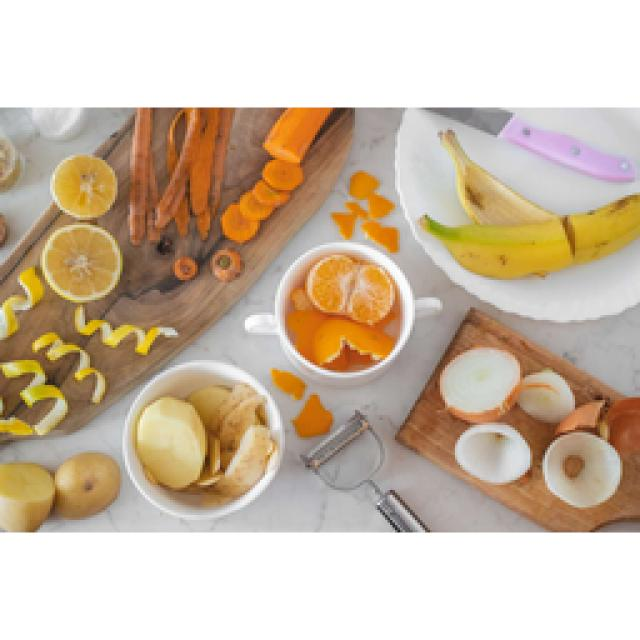food_waste: (420, 130, 638, 272), (440, 348, 618, 505), (40, 222, 178, 352), (130, 382, 278, 498), (220, 108, 328, 238), (130, 108, 228, 250), (282, 250, 398, 368), (0, 452, 118, 530), (0, 360, 68, 435), (455, 425, 528, 482), (52, 155, 115, 218), (0, 268, 40, 338), (72, 350, 102, 402), (292, 395, 328, 435), (32, 332, 75, 358), (172, 258, 195, 278)
